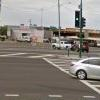Traffic light: (70, 7, 87, 33)
